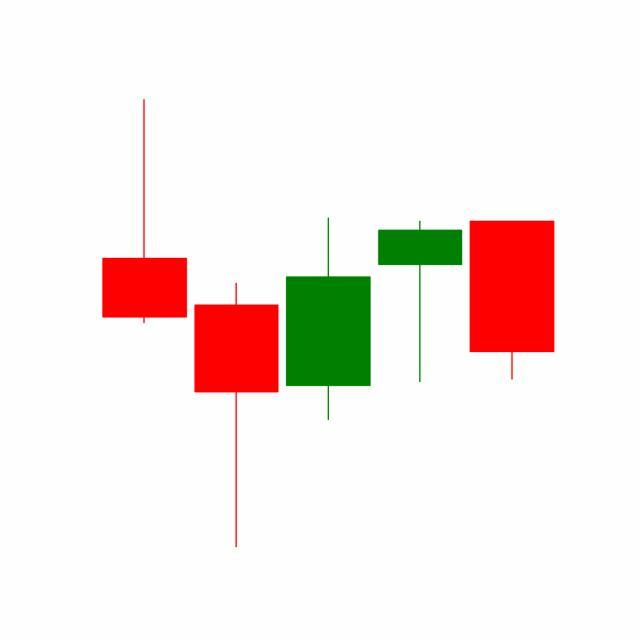Evening Star: (280, 216, 555, 423)
